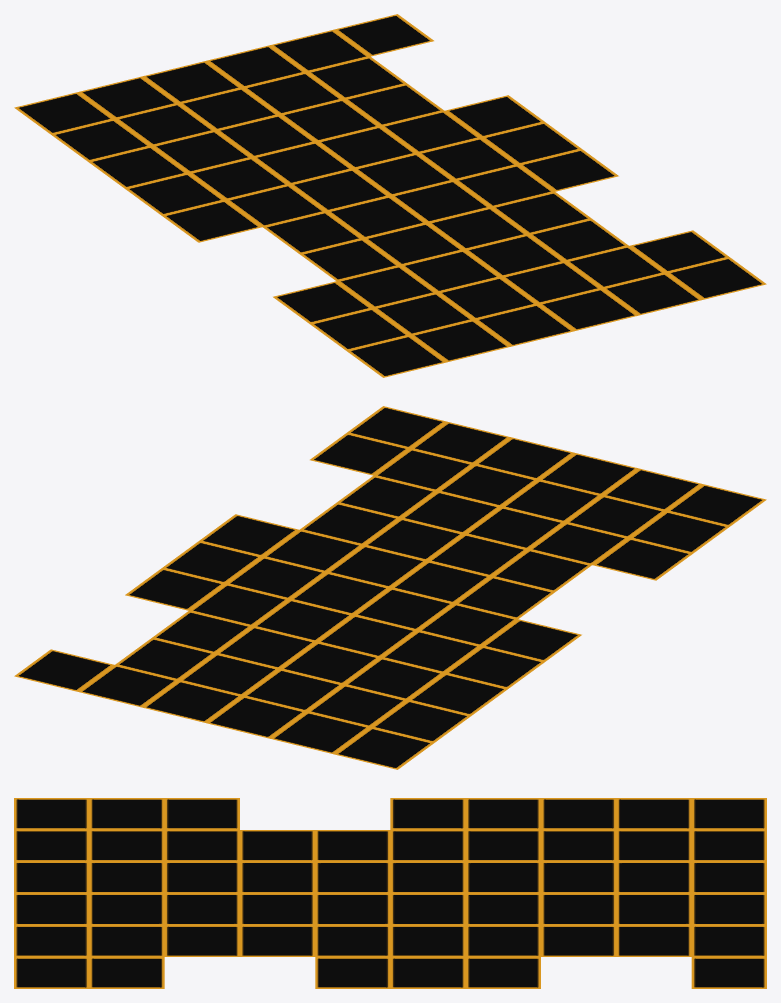
The model's file is Straight3.fbx.
3 renders of one model, top to bottom at view 1: azimuth 30°, elevation 25°; view 2: azimuth 150°, elevation 25°; view 3: azimuth 270°, elevation 25°, orthographic.
Parts seen in each view (by area): view 1: pasted__pPlane2; view 2: pasted__pPlane2; view 3: pasted__pPlane2.
Part boxes in pixels (x1,y1,x2,y2): pasted__pPlane2: [14, 14, 766, 377]; pasted__pPlane2: [14, 406, 766, 769]; pasted__pPlane2: [14, 798, 766, 988].
Bounding box in the file's own units: 15 × 0 × 25.
